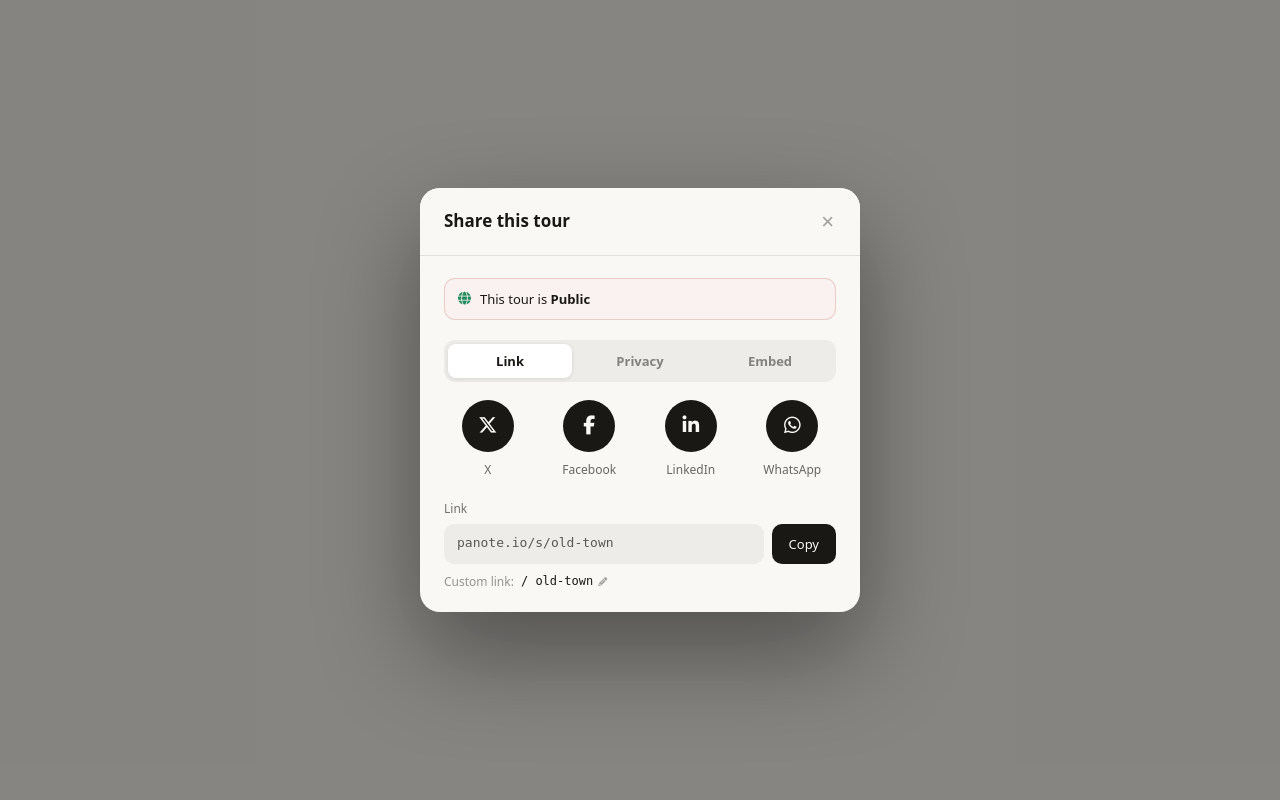
share route › renames the slug and says how long the old link redirects
Click the button with aria-label "Edit custom link" at [564, 581], box [521,574,607,588]
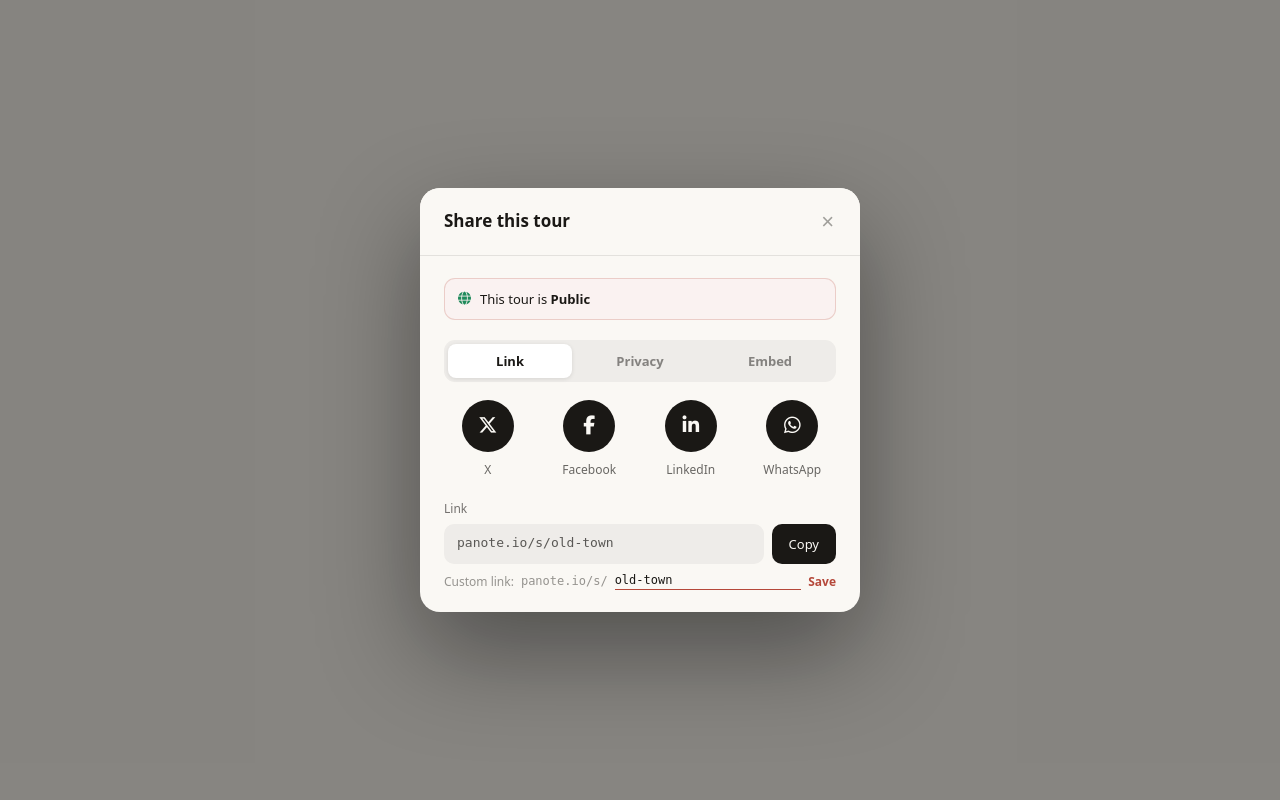
Replace the text in the field named "Custom link" with "New Town" at [708, 581], box [615,572,801,590]
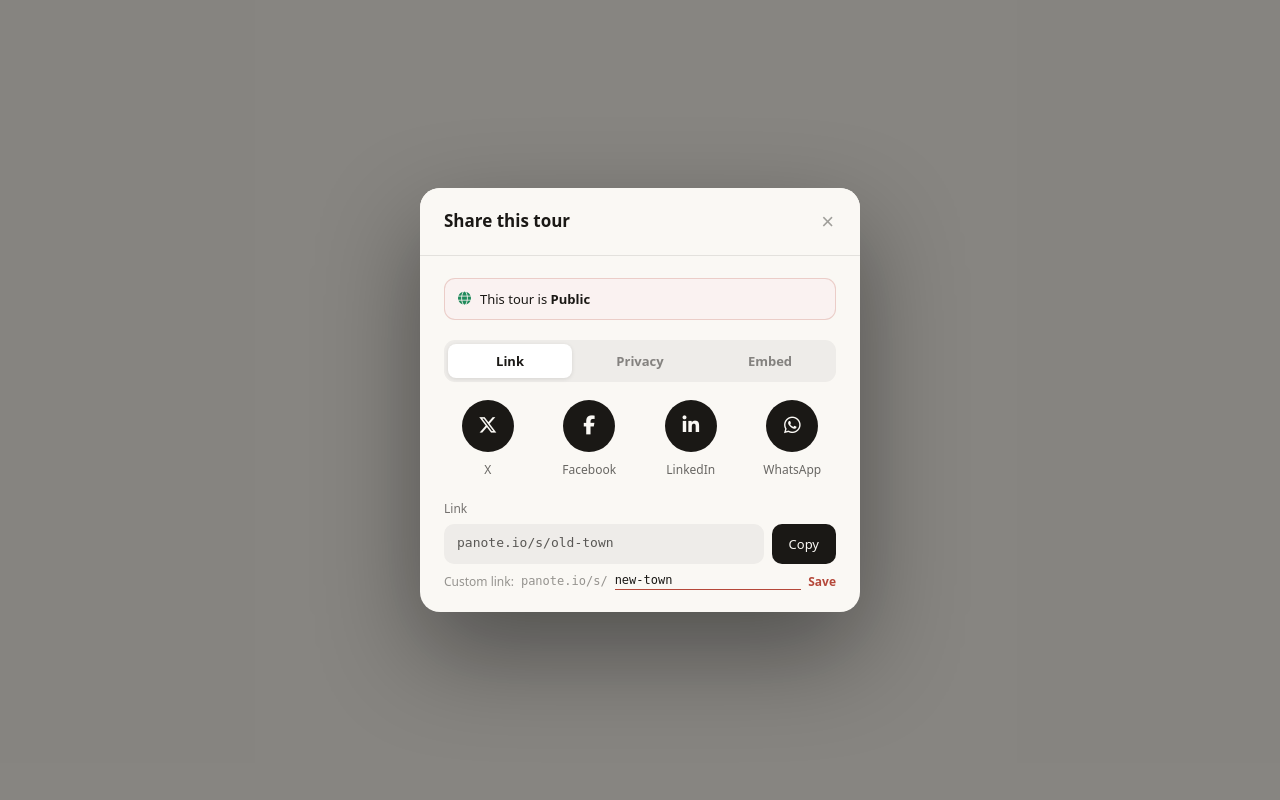
Press Enter in the field named "Custom link", box [615,572,801,590]
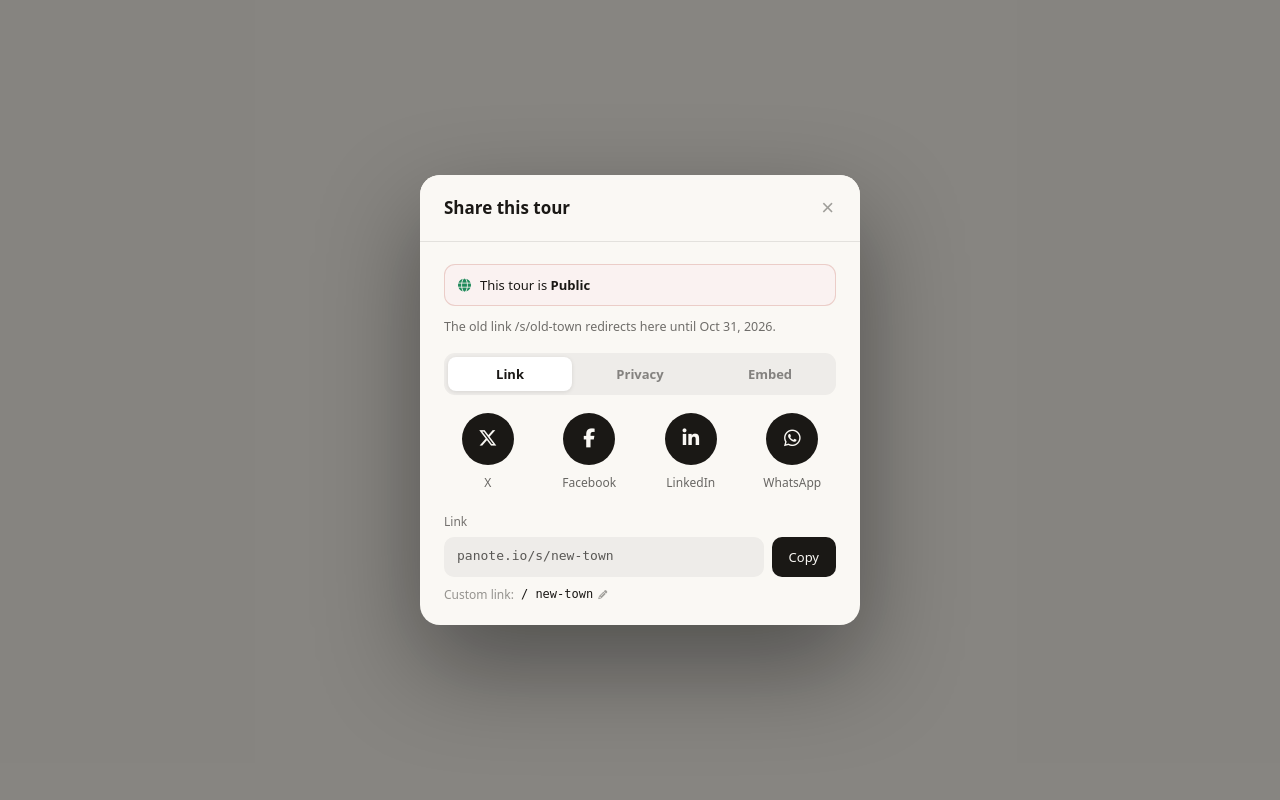
Now the text "panote.io/s/new-town" is shown, box [444,537,764,577]
Now the text "The old link /s/old-town redirects here until Oct 31, 2026." is shown, box [444,318,776,336]
